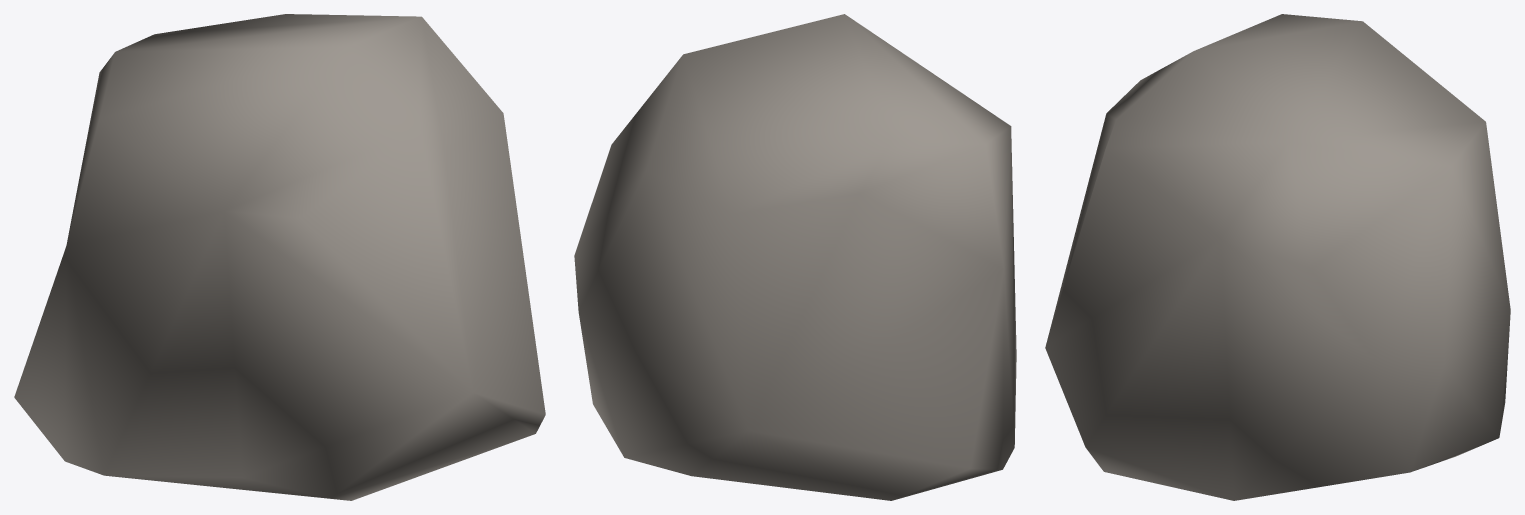
The model's file is Environment_Rock_1.low.gltf.
The picture shows the model from 3 angles, left to right: view 1: azimuth 30°, elevation 25°; view 2: azimuth 150°, elevation 25°; view 3: azimuth 270°, elevation 25°; orthographic projection. The views are drawn at different scales.
Parts seen in each view (by area): view 1: Environment_Rock_1; view 2: Environment_Rock_1; view 3: Environment_Rock_1.
Boxes of the visible parts, x1,y1,x2,y2 form: Environment_Rock_1: (14, 14, 545, 500); Environment_Rock_1: (574, 14, 1016, 500); Environment_Rock_1: (1045, 14, 1510, 500).
Size of the model in its own units: 0.6702 by 0.5801 by 0.6574.
1 material, 1 textured.
